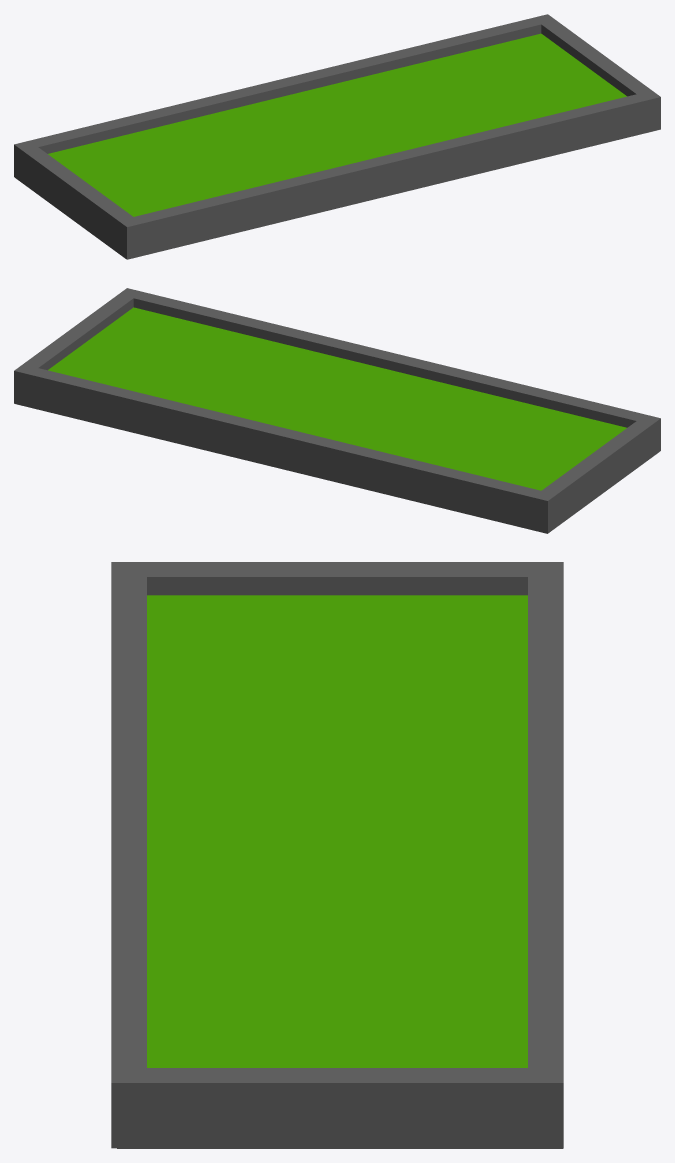
Rendered from Garden.fbx.
3 views of the same model, one above another, from view 1: azimuth 30°, elevation 25°; view 2: azimuth 150°, elevation 25°; view 3: azimuth 270°, elevation 25° (orthographic). The views are drawn at different scales.
Parts seen in each view (by area): view 1: garden, pCube5; view 2: garden, pCube5; view 3: garden, pCube5.
Boxes of the visible parts, box(x1,y1,x2,y2) form: garden: box(36, 33, 626, 244); pCube5: box(14, 14, 660, 259); garden: box(14, 307, 656, 533); pCube5: box(14, 288, 660, 533); garden: box(117, 595, 563, 1148); pCube5: box(111, 562, 563, 1148).
Bounding box in the file's own units: 12.19 × 0.7202 × 4.47.
